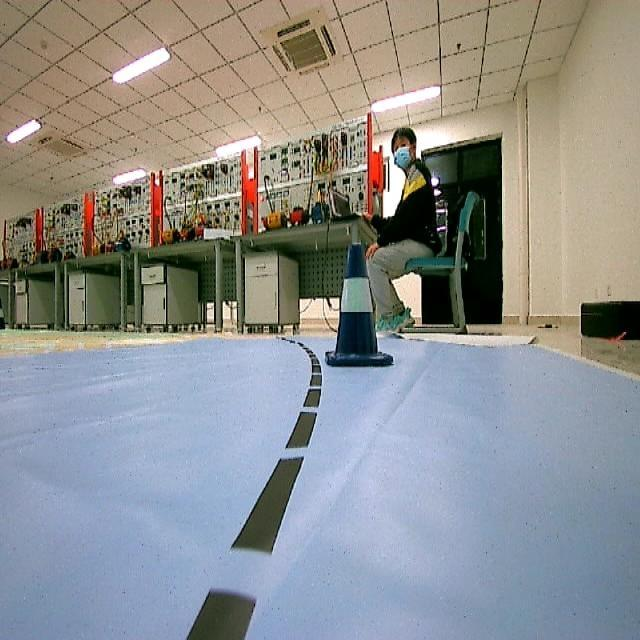obstacle: (326, 238, 394, 368)
